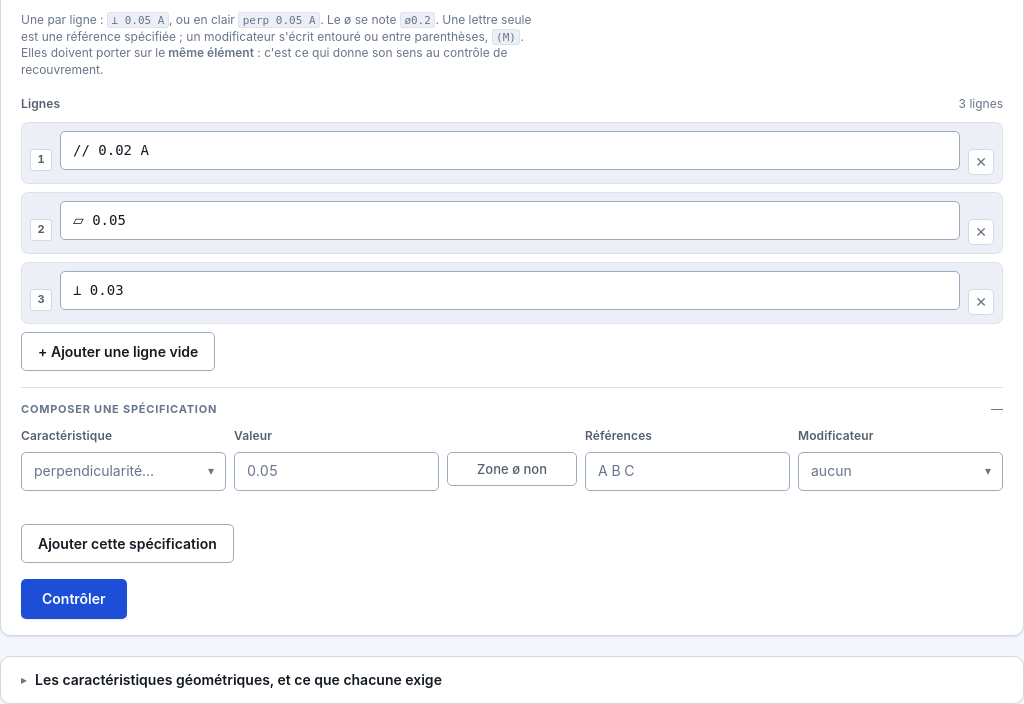
Test case: écran de tolérancement géométrique › montre la gravité en toutes lettres, pas seulement en couleur
The width and height of the screenshot is (1024, 704).
(page scrolled)
Click the 4th button named "Contrôler" at (74, 599), box [21, 580, 127, 619]
(page scrolled)
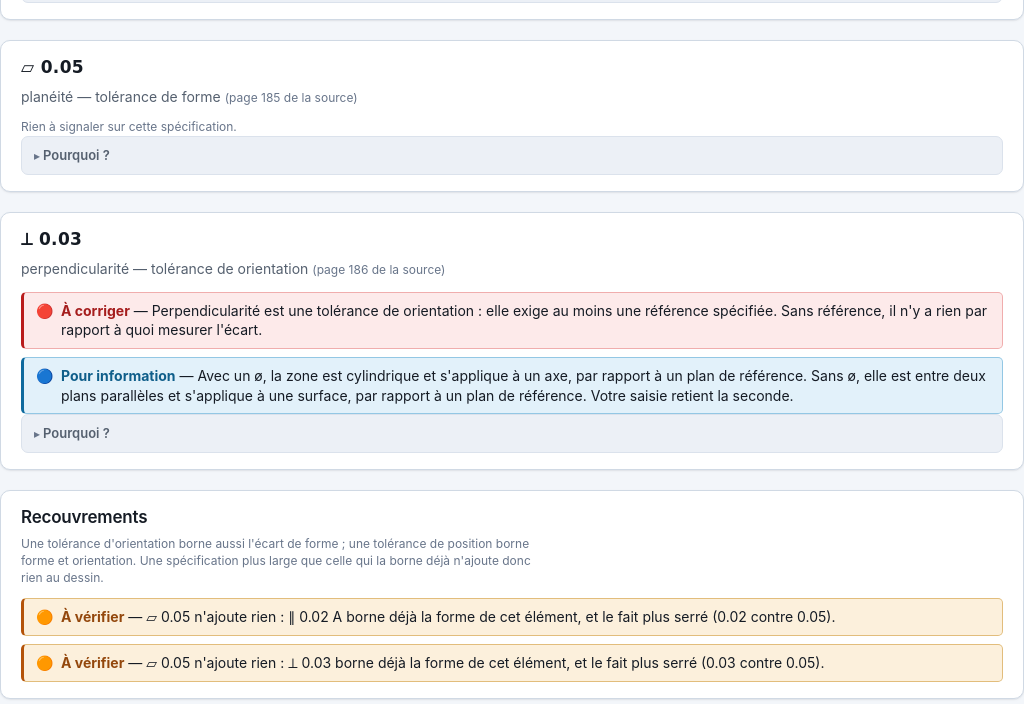
Expected: the 5th text "À corriger" is shown, [61, 302, 130, 319]
Expected: the 6th text "exige au moins une référence spécifiée" is shown, [61, 302, 987, 338]
